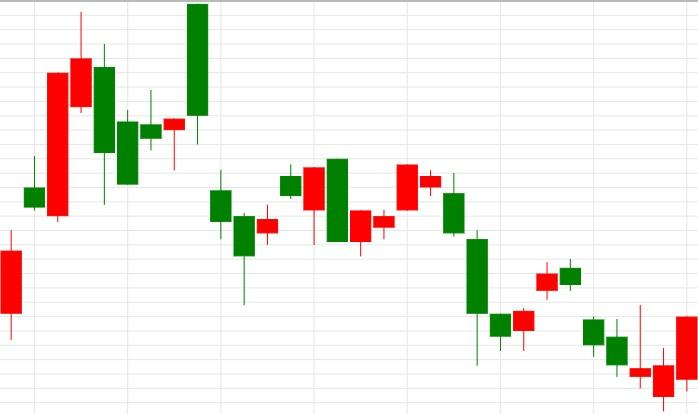bearish_engulfing_fall: (233, 158, 349, 304)
bullish_engulfing_rise: (396, 163, 535, 366)
